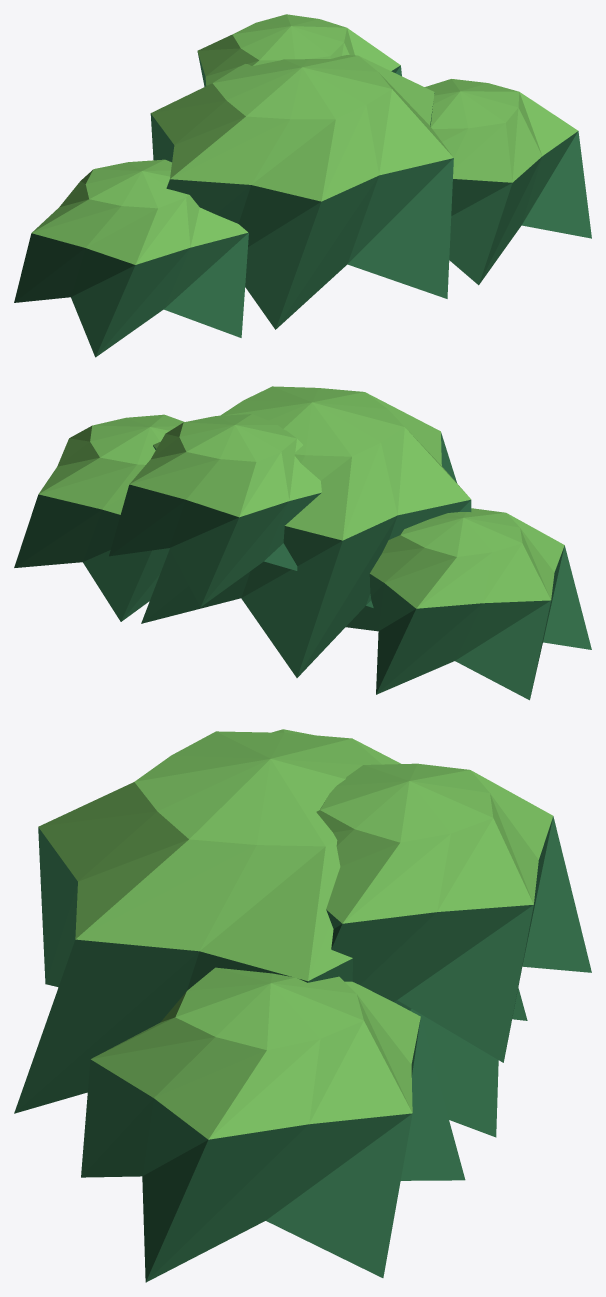
The model's file is bush.glb.
3 renders of one model, top to bottom at view 1: azimuth 30°, elevation 25°; view 2: azimuth 150°, elevation 25°; view 3: azimuth 270°, elevation 25°, orthographic. The views are drawn at different scales.
Parts seen in each view (by area): view 1: leaf_lit, leaf_shade; view 2: leaf_lit, leaf_shade; view 3: leaf_lit, leaf_shade.
Boxes of the visible parts, left/top/right/bottom form: leaf_lit: left=31, top=14, right=578, bottom=264; leaf_shade: left=14, top=52, right=591, bottom=357; leaf_lit: left=39, top=386, right=564, bottom=608; leaf_shade: left=14, top=432, right=591, bottom=700; leaf_lit: left=38, top=729, right=552, bottom=1139; leaf_shade: left=14, top=816, right=591, bottom=1282.
Bounding box in the file's own units: 2.38 × 0.9362 × 1.46.
